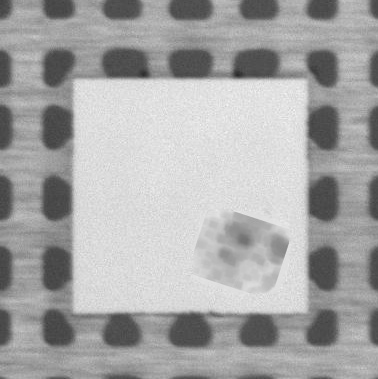DIE_INK: (189, 208, 292, 298)
